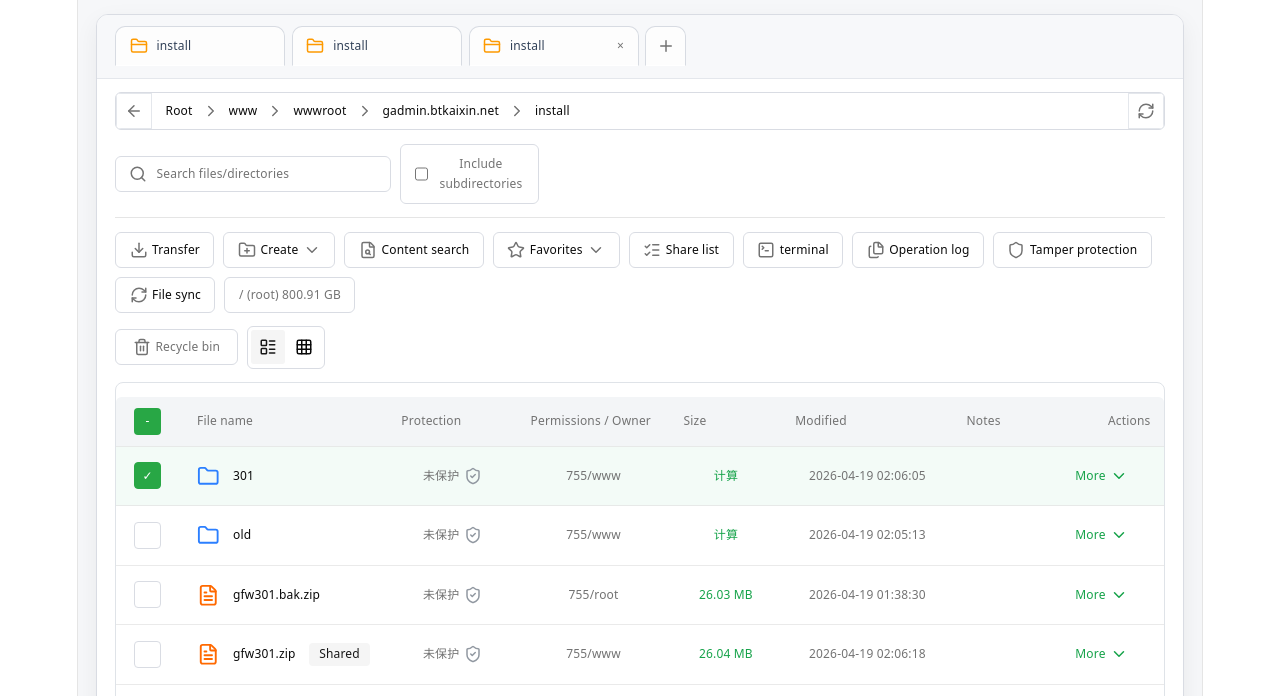
FileManagerPage i18n › shows empty state after filtering
In the field with placeholder "Search files/directories": (253, 174) [115,156,392,192], type "zzz-no-file"
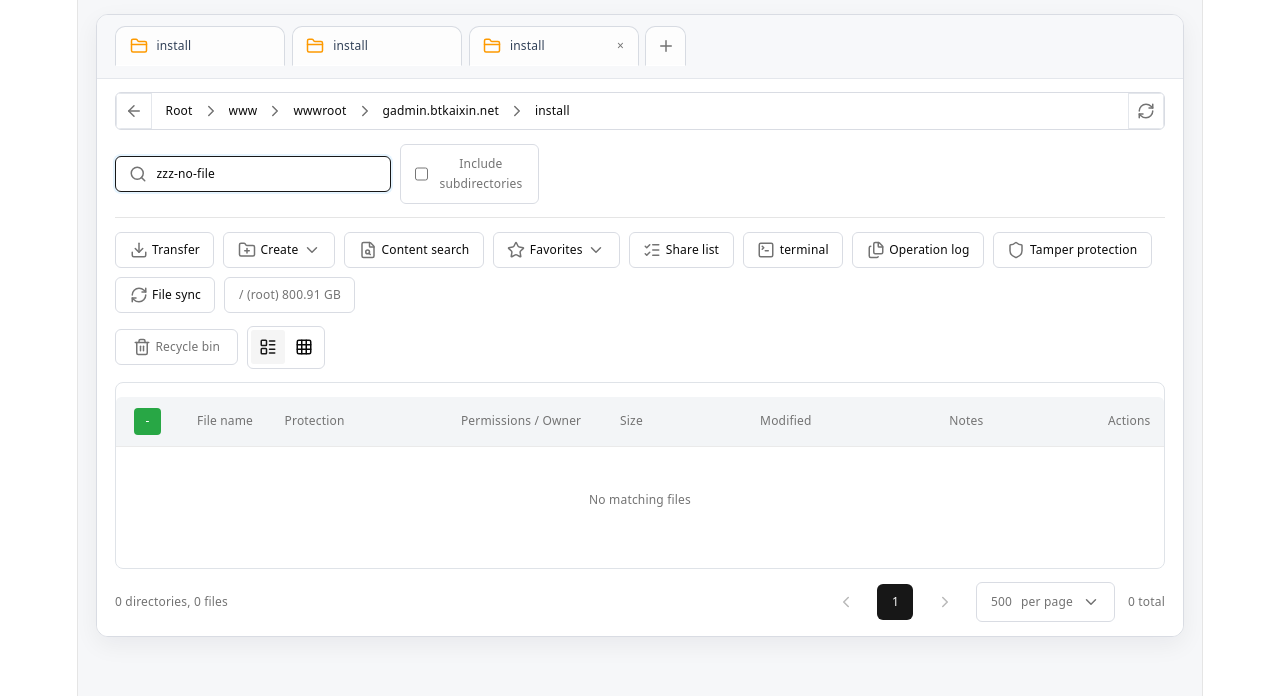
Result: the text "No matching files" is shown at [116,446,1164,554]
